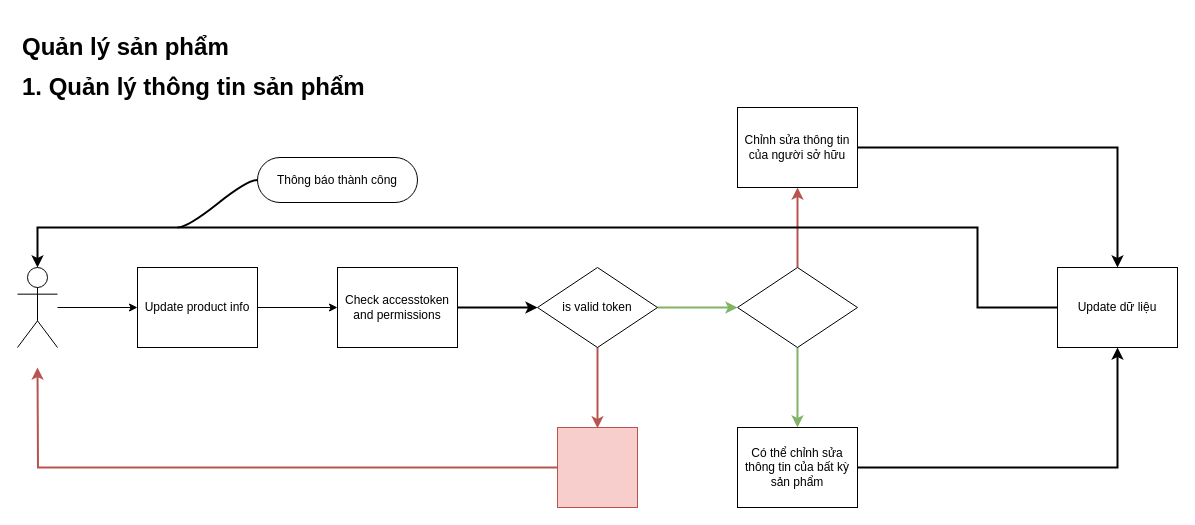
Some shapes in this 1195 by 525 pixel diagram are drawn without their labels. Each missing label, with the centre of its shape:
Actor: (37,307)
Error: (597,467)
Is admin?: (797,307)
